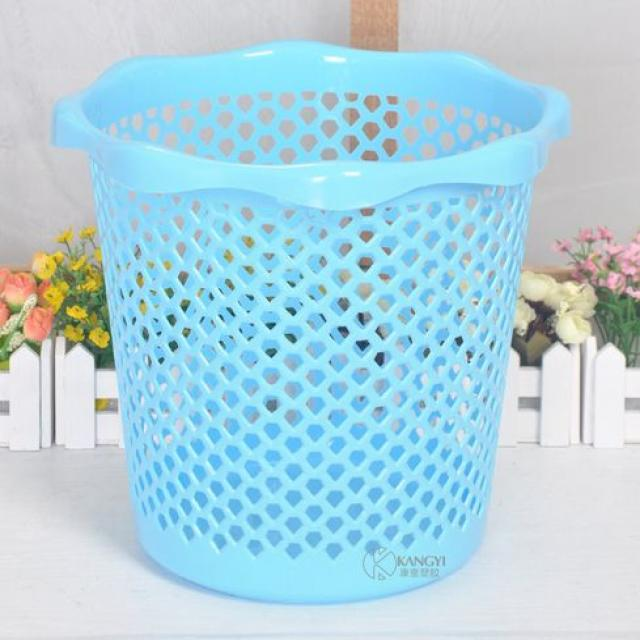Dustbin: (48, 37, 572, 607)
